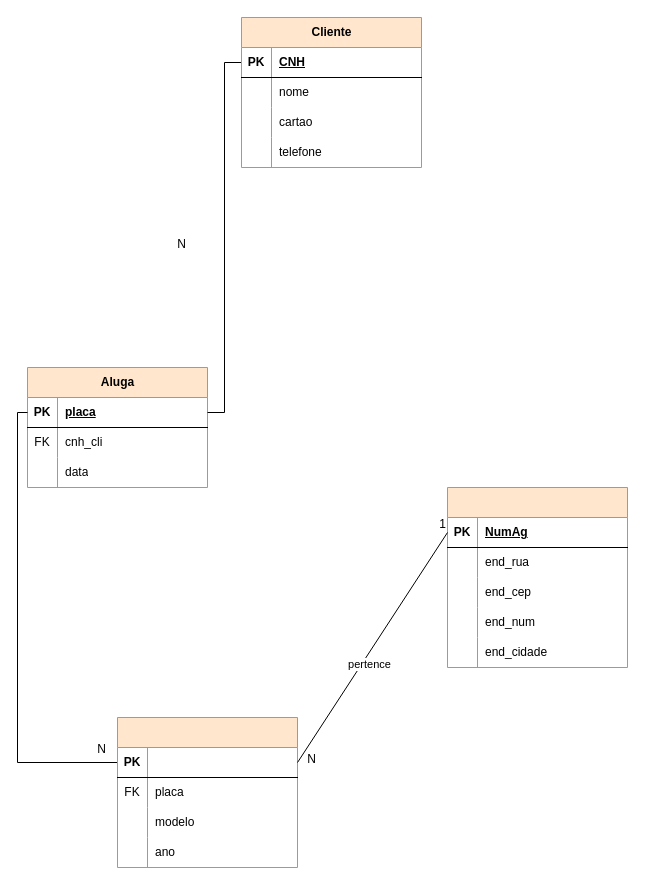
This 645x885 diagram has some shape labels left out. Here are the shapes that lost their labels. From the top down, the box of each, then its label:
(446, 486, 628, 668): Agencia
(116, 716, 298, 868): Carro
